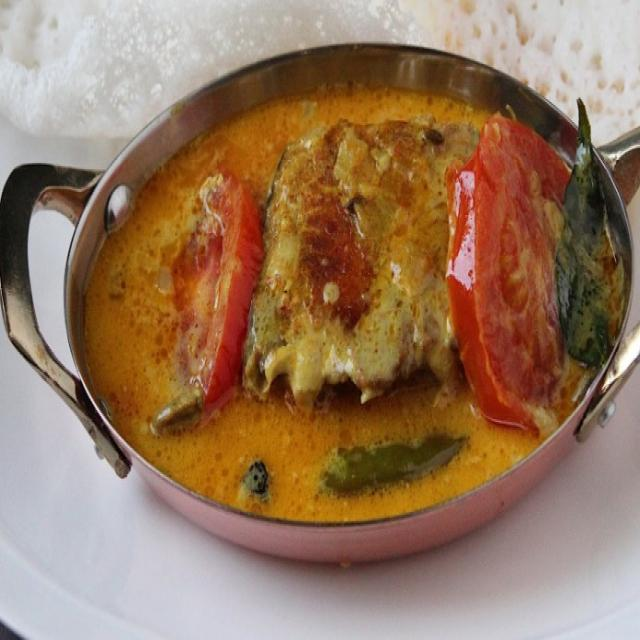FISH CURRY: (82, 87, 544, 521)
